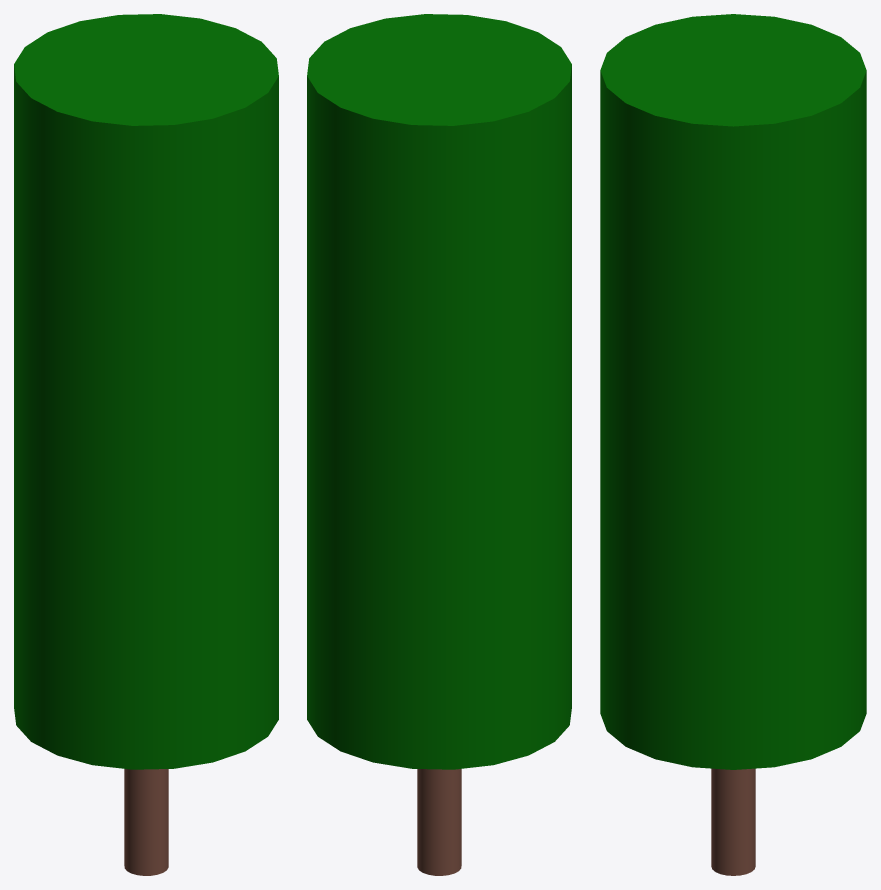
File: MediumTree.fbx
3 renders of one model, left to right at view 1: azimuth 30°, elevation 25°; view 2: azimuth 150°, elevation 25°; view 3: azimuth 270°, elevation 25°, orthographic.
Visible parts, largest first — view 1: Tree__11_, Tree__10_; view 2: Tree__11_, Tree__10_; view 3: Tree__11_, Tree__10_.
Boxes of the visible parts, x1,y1,x2,y2 form: Tree__11_: (14, 14, 278, 769); Tree__10_: (124, 769, 168, 875); Tree__11_: (307, 14, 571, 769); Tree__10_: (417, 769, 461, 875); Tree__11_: (600, 14, 866, 769); Tree__10_: (711, 768, 755, 875).
Size of the model in its own units: 150 by 495 by 150.
